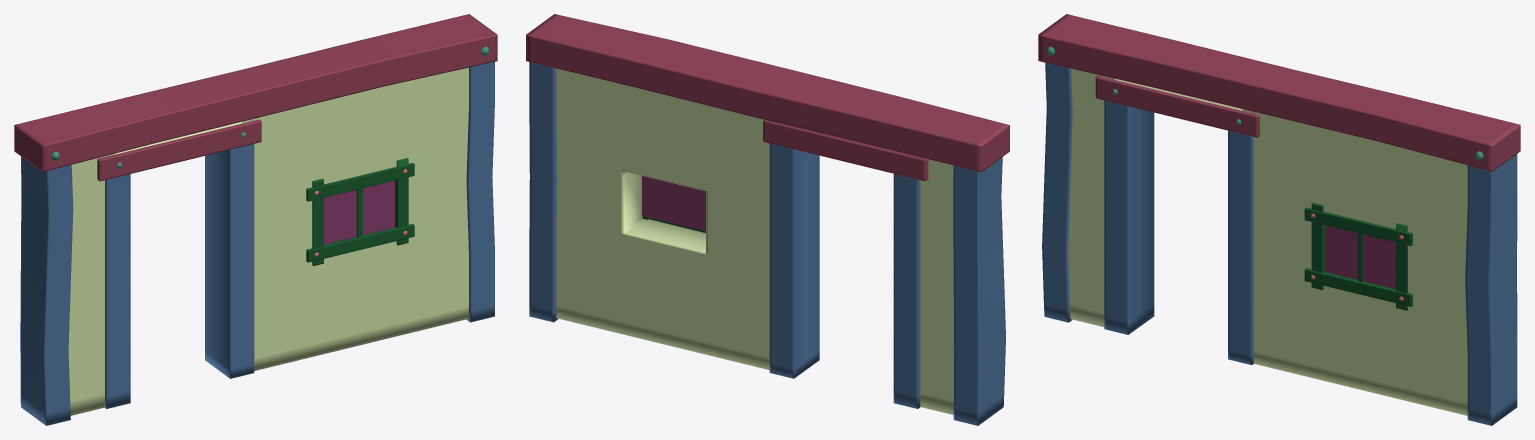
Rendered from Wall_01.fbx.
3 renders of one model, left to right at view 1: azimuth 30°, elevation 25°; view 2: azimuth 150°, elevation 25°; view 3: azimuth 330°, elevation 25°, orthographic.
Parts seen in each view (by area): view 1: Wall_01_Base, Wall_01_Beams_Vert, Wall_01_Beams_Horiz, Wall_01_Window, Wall_Window_01_Glass; view 2: Wall_01_Base, Wall_01_Beams_Vert, Wall_01_Beams_Horiz, Wall_Window_01_Glass; view 3: Wall_01_Base, Wall_01_Beams_Vert, Wall_01_Beams_Horiz, Wall_01_Window, Wall_Window_01_Glass.
Part boxes in pixels (<box>): Wall_01_Base: <box>68,67,468,415</box>; Wall_01_Beams_Vert: <box>20,62,494,425</box>; Wall_01_Beams_Horiz: <box>14,14,497,181</box>; Wall_01_Window: <box>306,158,414,265</box>; Wall_Window_01_Glass: <box>324,180,394,244</box>; Wall_01_Base: <box>556,68,954,414</box>; Wall_01_Beams_Vert: <box>529,62,1005,425</box>; Wall_01_Beams_Horiz: <box>526,14,1009,181</box>; Wall_Window_01_Glass: <box>642,176,705,231</box>; Wall_01_Base: <box>1068,68,1467,415</box>; Wall_01_Beams_Vert: <box>1042,62,1517,425</box>; Wall_01_Beams_Horiz: <box>1038,14,1520,171</box>; Wall_01_Window: <box>1304,203,1412,310</box>; Wall_Window_01_Glass: <box>1325,225,1395,288</box>.
Bounding box in the file's own units: 208 × 124 × 24.
